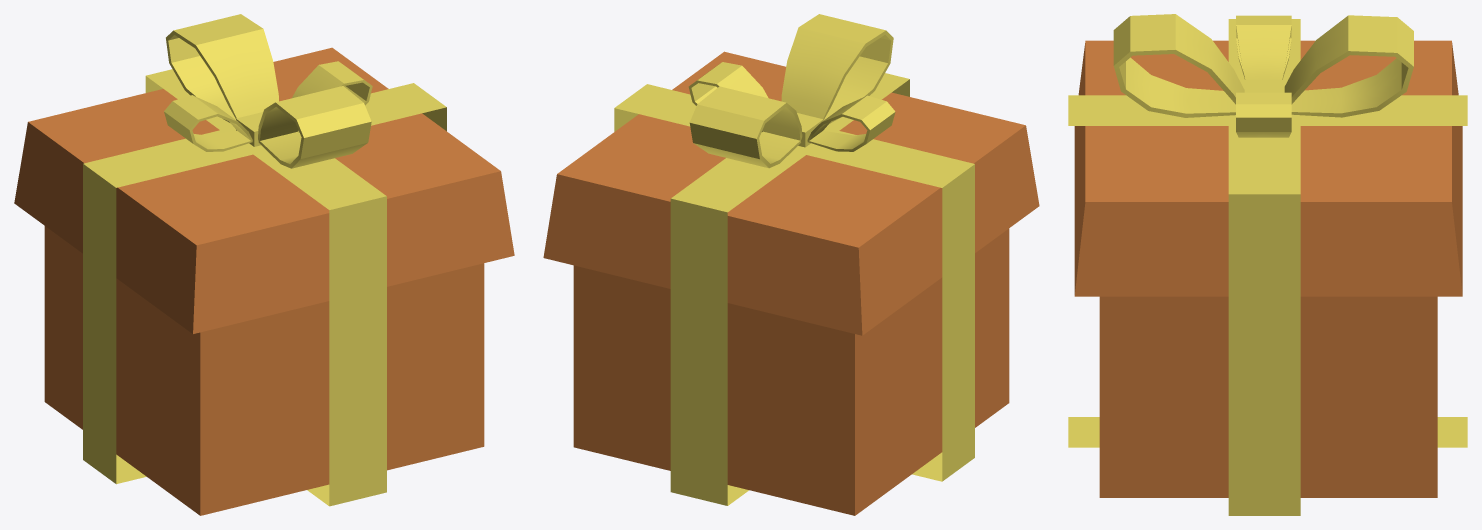
The model's file is M_Gift_04.FBX.
The picture shows the model from 3 angles, left to right: view 1: azimuth 30°, elevation 25°; view 2: azimuth 150°, elevation 25°; view 3: azimuth 270°, elevation 25°; orthographic projection. The views are drawn at different scales.
Visible parts, largest first — view 1: Object006; view 2: Object006; view 3: Object006.
Boxes of the visible parts, x1,y1,x2,y2 form: Object006: [14, 14, 514, 515]; Object006: [543, 14, 1039, 515]; Object006: [1068, 14, 1467, 515].
Size of the model in its own units: 51.81 by 55.24 by 49.87.
1 material, 1 textured.
